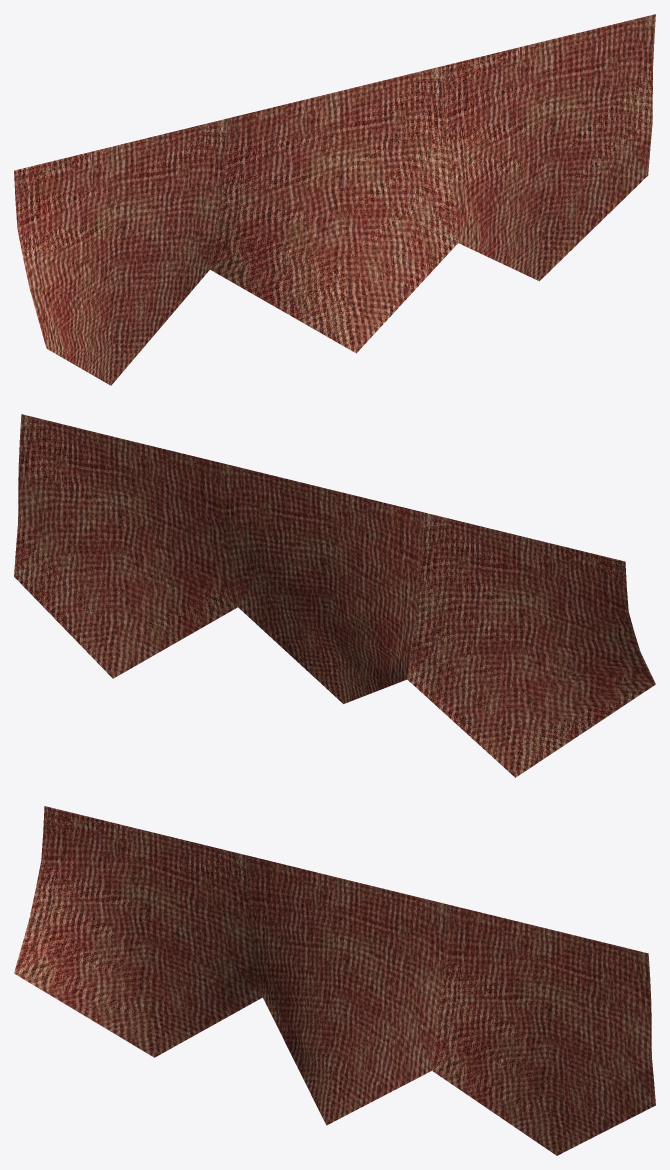
Rendered from mm9_deco_bannerc.glb.
The picture shows the model from 3 angles, top to bottom: view 1: azimuth 30°, elevation 25°; view 2: azimuth 150°, elevation 25°; view 3: azimuth 330°, elevation 25°; orthographic projection. The views are drawn at different scales.
Parts seen in each view (by area): view 1: Bannerc; view 2: Bannerc; view 3: Bannerc.
Part boxes in pixels (box(x1,y1,x2,y2)): Bannerc: box(14, 14, 655, 385); Bannerc: box(14, 414, 655, 777); Bannerc: box(14, 806, 655, 1155).
Size of the model in its own units: 8.02 by 2.97 by 1.09.
1 material, 1 textured.
